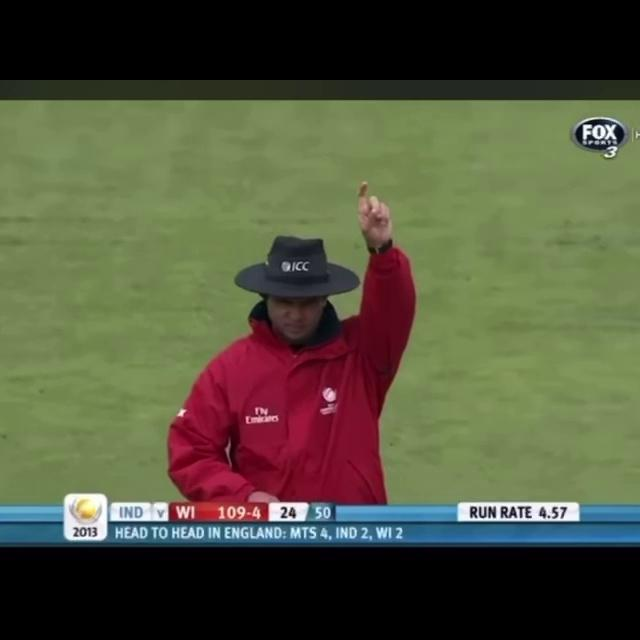umpire: (142, 148, 489, 492)
